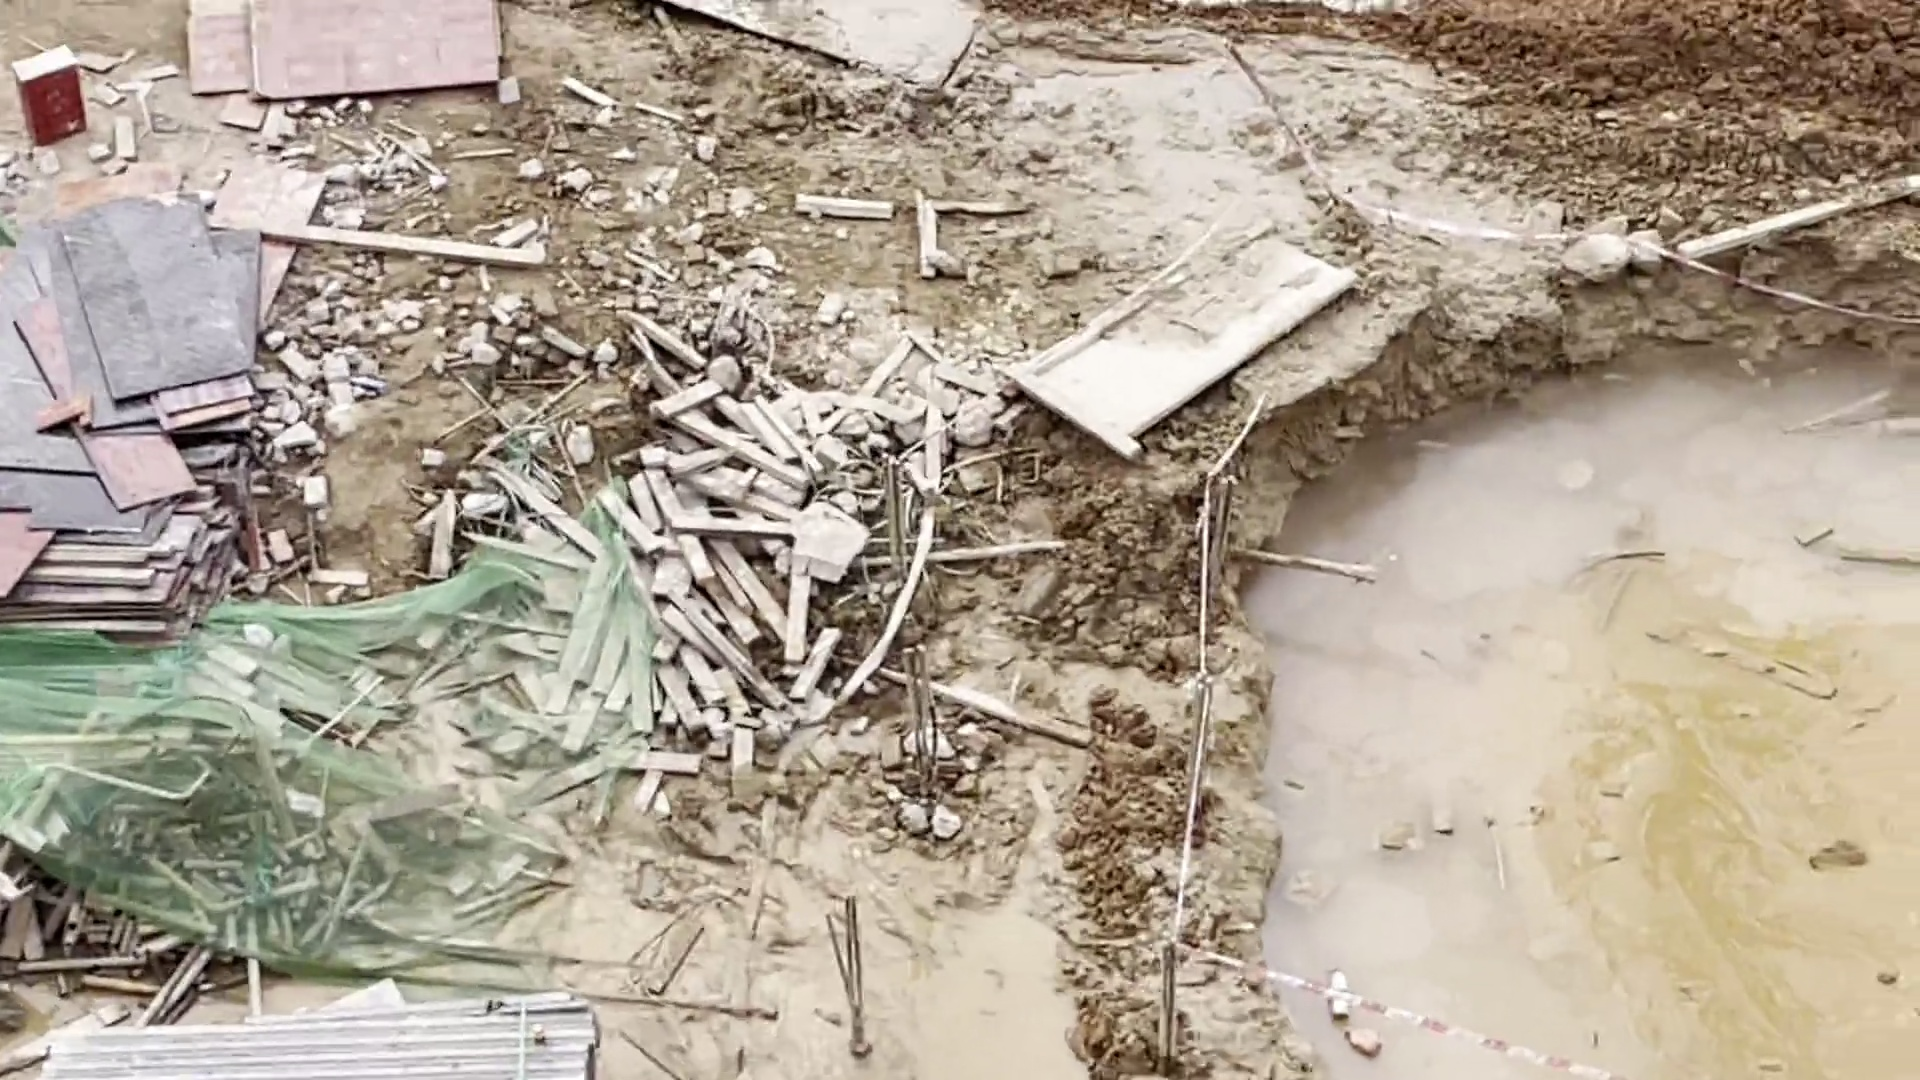board: (3, 206, 251, 644)
